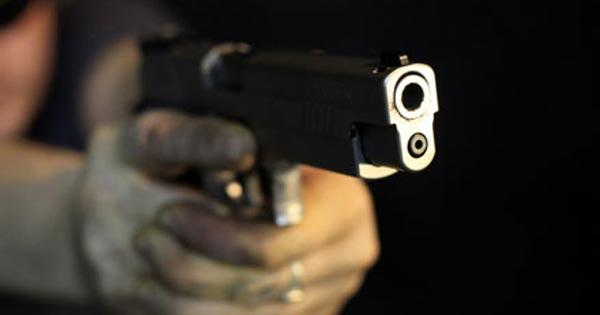gun: (133, 27, 441, 228)
